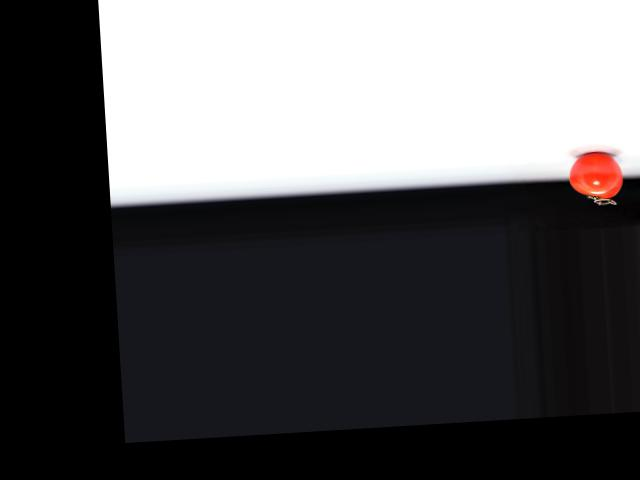tomato: (567, 150, 623, 200)
